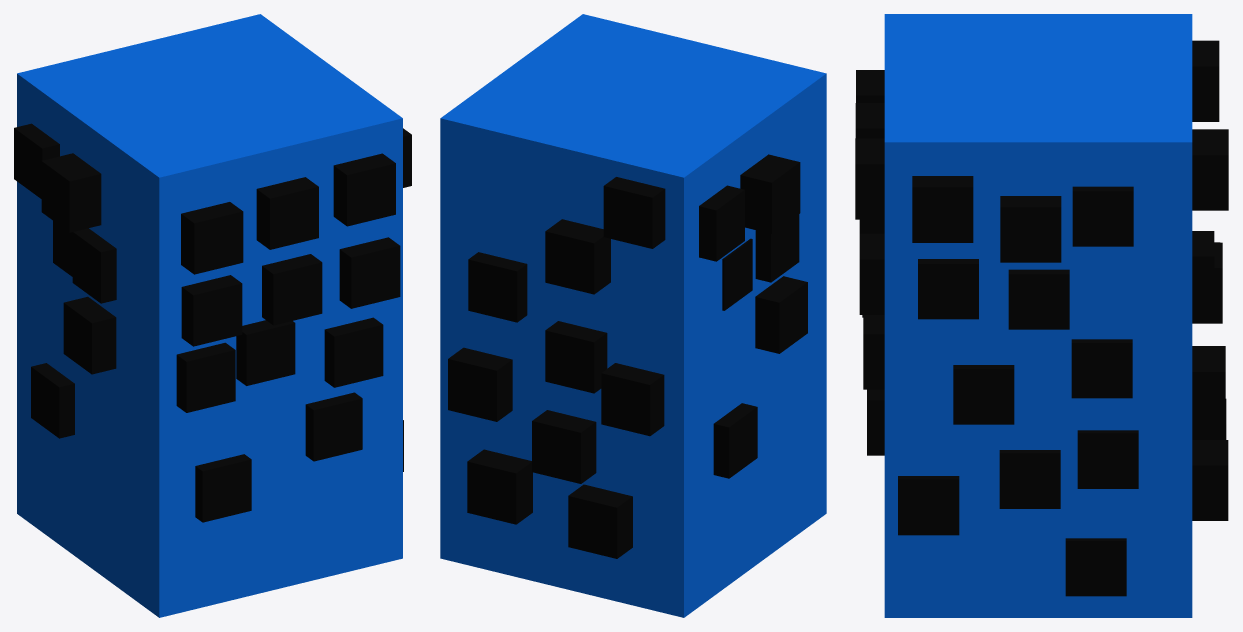
Rendered from CoolBuilding.fbx.
3 renders of one model, left to right at view 1: azimuth 30°, elevation 25°; view 2: azimuth 150°, elevation 25°; view 3: azimuth 270°, elevation 25°, orthographic. The views are drawn at different scales.
Parts seen in each view (by area): view 1: Cube, Cube.033, Cube.003, Cube.002, Cube.001, Cube.006, Cube.004, Cube.005, Cube.007, Cube.011, Cube.036, Cube.008 (+6 smaller); view 2: Cube, Cube.023, Cube.030, Cube.024, Cube.026, Cube.025, Cube.028, Cube.031, Cube.033, Cube.027, Cube.029, Cube.036 (+4 smaller); view 3: Cube, Cube.012, Cube.013, Cube.015, Cube.016, Cube.014, Cube.018, Cube.017, Cube.020, Cube.019, Cube.021, Cube.022 (+12 smaller).
Boxes of the visible parts, box(x1,y1,x2,y2) form: Cube: box(17, 14, 402, 617); Cube.033: box(41, 153, 101, 232); Cube.003: box(333, 153, 395, 226); Cube.002: box(256, 177, 318, 249); Cube.001: box(181, 202, 243, 274); Cube.006: box(181, 275, 242, 346); Cube.004: box(339, 237, 400, 308); Cube.005: box(262, 254, 322, 325); Cube.007: box(176, 342, 235, 412); Cube.011: box(324, 317, 383, 387); Cube.036: box(63, 296, 116, 374); Cube.008: box(236, 320, 295, 385); Cube: box(440, 14, 826, 617); Cube.023: box(467, 449, 532, 524); Cube.030: box(545, 219, 610, 294); Cube.024: box(568, 484, 632, 558); Cube.026: box(448, 347, 512, 421); Cube.025: box(532, 410, 596, 483); Cube.028: box(601, 363, 664, 436); Cube.031: box(603, 177, 665, 248); Cube.033: box(740, 154, 800, 233); Cube.027: box(545, 321, 607, 393); Cube.029: box(468, 252, 527, 322); Cube.036: box(755, 276, 807, 353); Cube: box(884, 14, 1192, 617); Cube.012: box(912, 176, 973, 242); Cube.013: box(1000, 196, 1061, 262); Cube.015: box(1008, 269, 1069, 329); Cube.016: box(1072, 186, 1133, 246); Cube.014: box(918, 259, 978, 319); Cube.018: box(953, 365, 1014, 424); Cube.017: box(898, 476, 959, 535); Cube.020: box(1071, 339, 1132, 398); Cube.019: box(999, 450, 1060, 508); Cube.021: box(1077, 430, 1138, 488); Cube.022: box(1065, 538, 1126, 596).
Bounding box in the file's own units: 1213 × 1718 × 1222.
